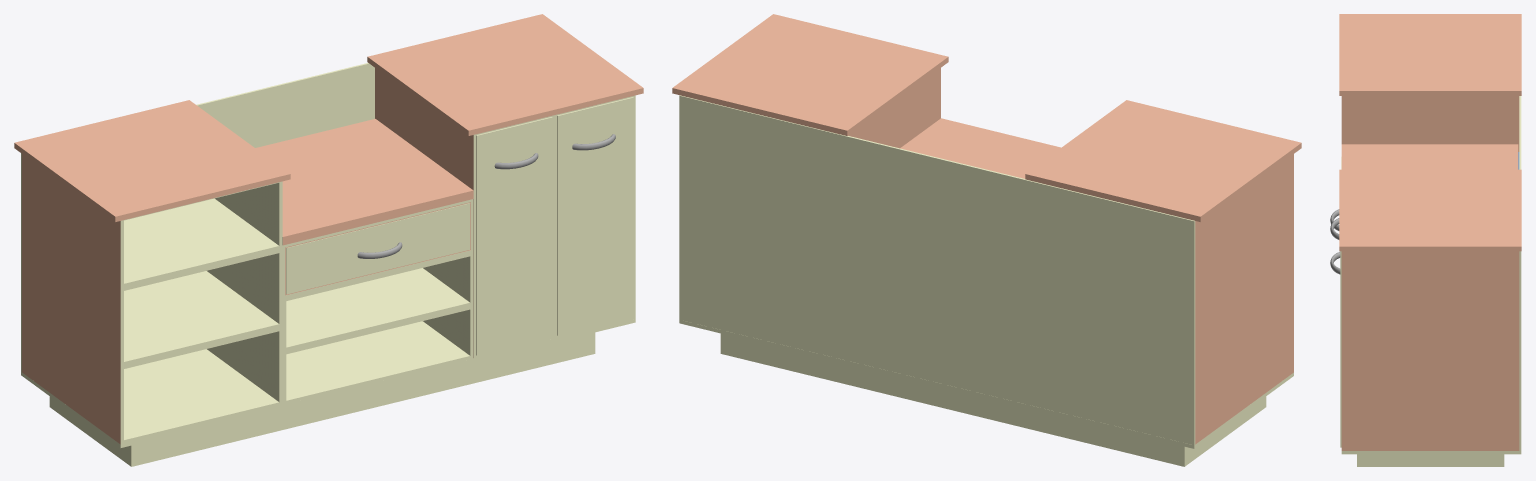
File: Store.Counter.fbx
3 renders of one model, left to right at view 1: azimuth 30°, elevation 25°; view 2: azimuth 150°, elevation 25°; view 3: azimuth 270°, elevation 25°, orthographic. The views are drawn at different scales.
Parts seen in each view (by area): view 1: Store_Counter; view 2: Store_Counter; view 3: Store_Counter.
Part boxes in pixels (x1=…): Store_Counter: x1=14, y1=14, x2=643, y2=466; Store_Counter: x1=672, y1=14, x2=1301, y2=466; Store_Counter: x1=1330, y1=14, x2=1521, y2=466.
Size of the model in its own units: 1123 by 535 by 391.
Materials: 1 (1 with a texture image).
